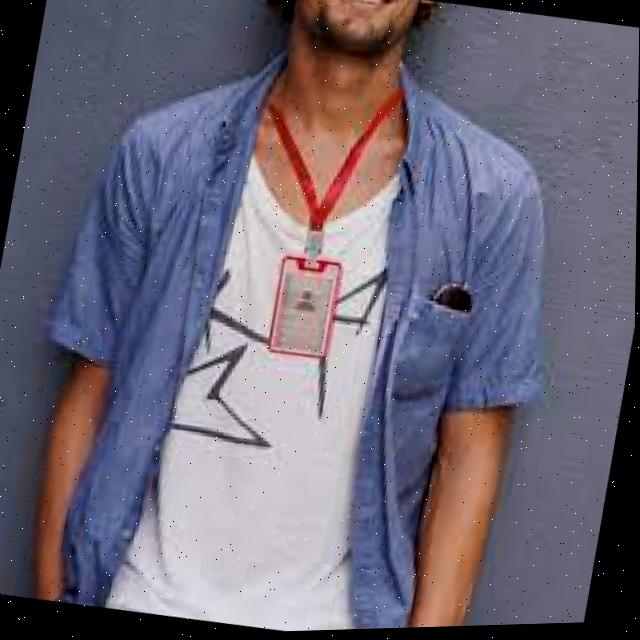id_card: (214, 76, 407, 379)
